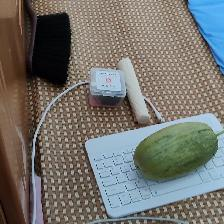gua: (135, 123, 209, 172)
